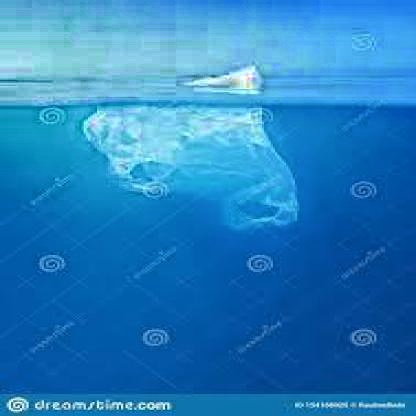pbag: (77, 106, 299, 233)
